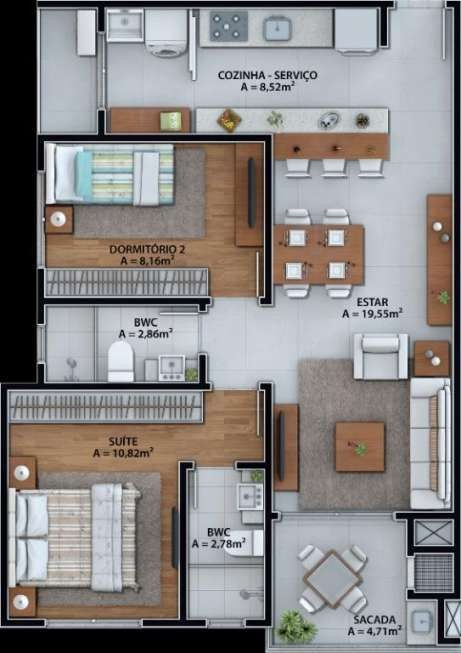wall: (453, 2, 459, 594), (2, 1, 391, 7), (264, 384, 272, 626), (1, 379, 7, 628), (1, 382, 212, 389), (179, 463, 187, 626), (36, 134, 269, 139), (265, 139, 272, 305), (38, 297, 210, 303), (379, 1, 389, 47), (396, 511, 460, 518), (142, 619, 205, 626), (37, 269, 44, 324), (407, 511, 414, 556), (408, 593, 460, 598), (438, 594, 443, 645), (37, 133, 44, 168), (97, 2, 105, 32), (97, 111, 105, 140)
